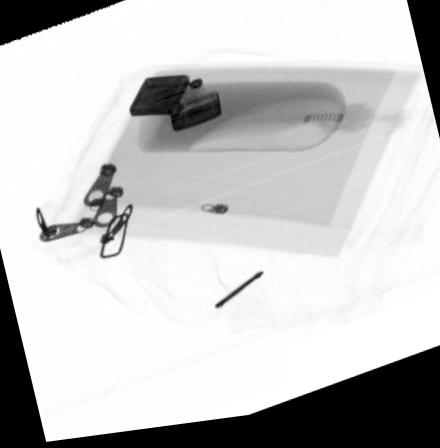Lighter: (129, 79, 222, 137)
